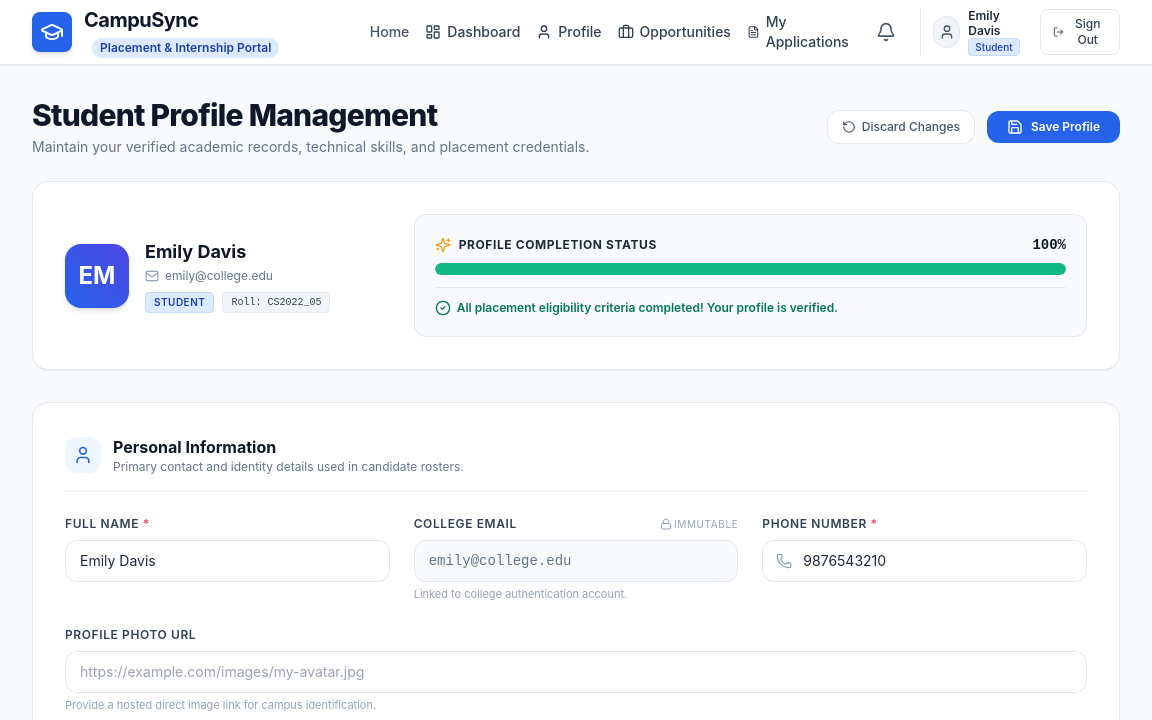
Scenario: Student Profile Management Flow (/profile) › displays error message when backend returns an error
Click the button with test id "save-profile-btn": (1053, 127) [987,111,1120,143]
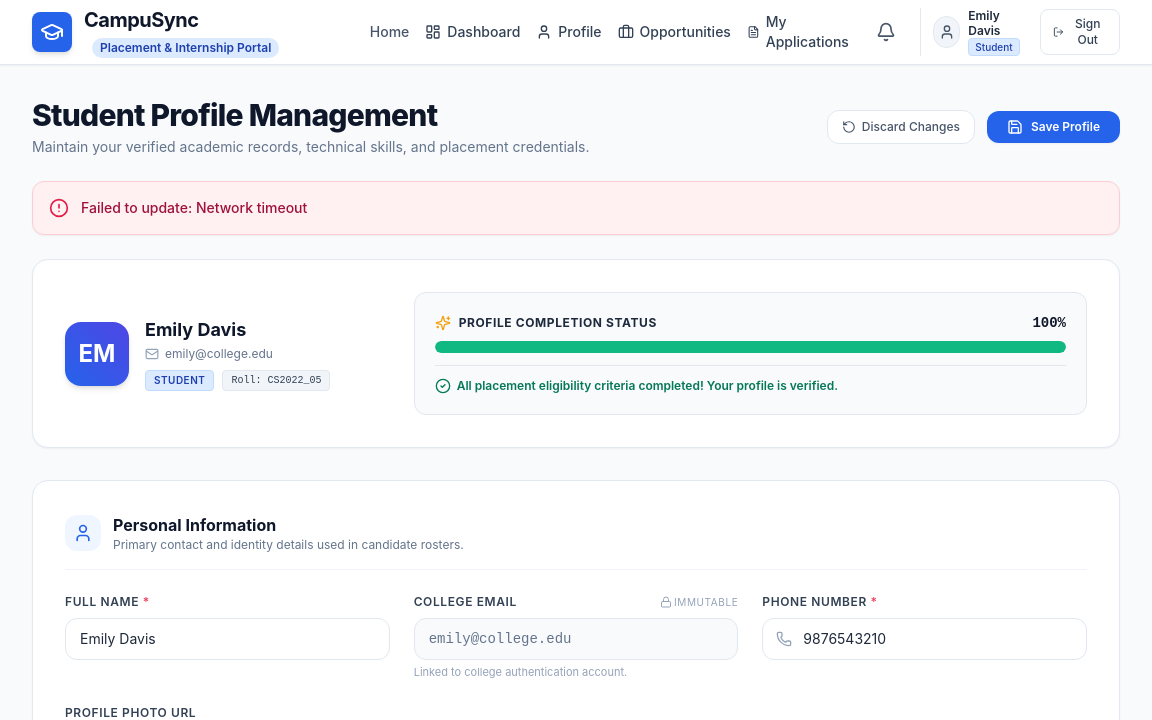
Check: the element with test id "profile-error-alert" reads "Failed to update: Network timeout", box [81,199,307,216]
